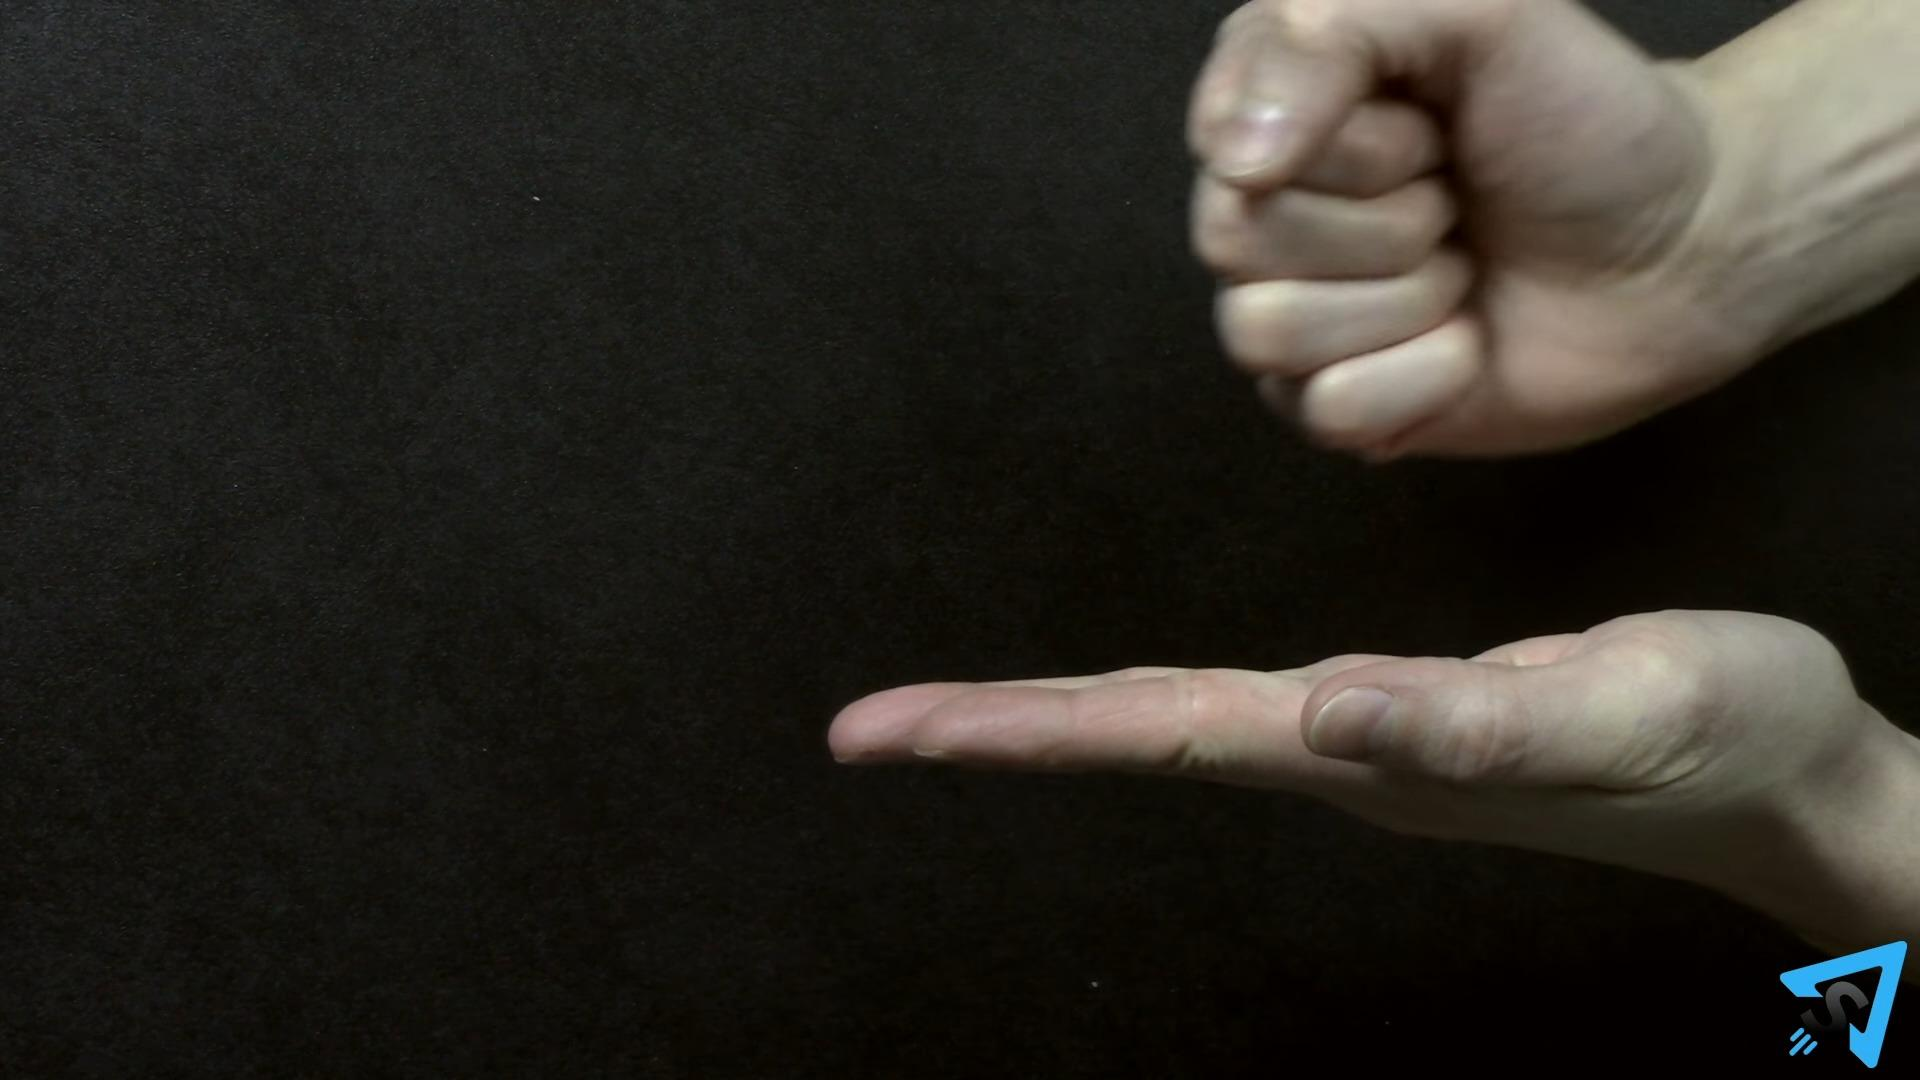Rock: (1172, 0, 1751, 465)
